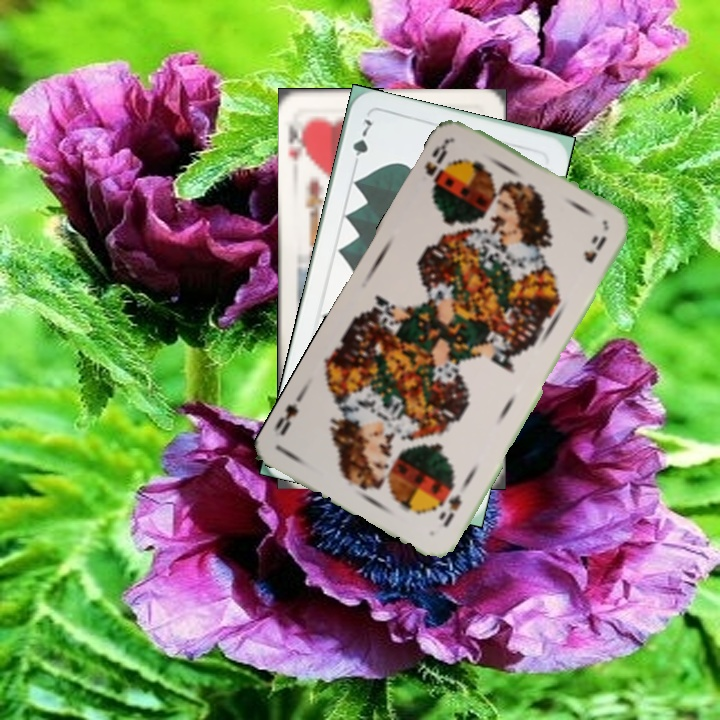G7: (348, 115, 375, 172)
HK: (285, 115, 312, 165)
SO: (420, 136, 456, 196), (434, 489, 464, 530)
